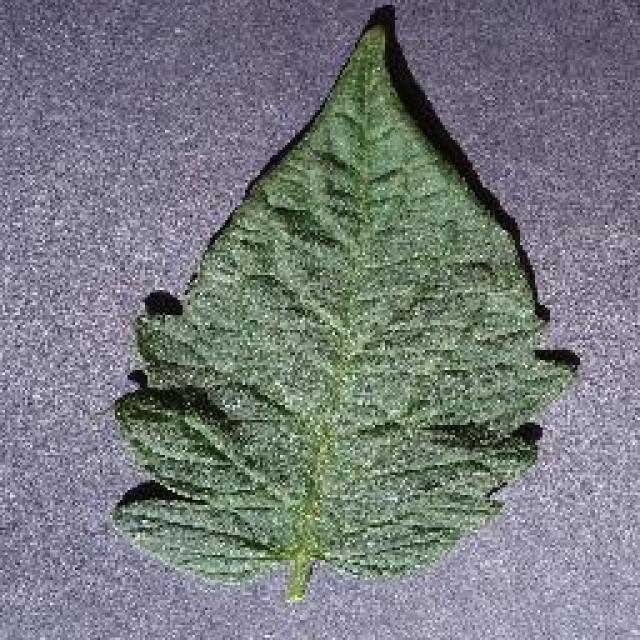Tomato_Healthy: (96, 9, 594, 578)
